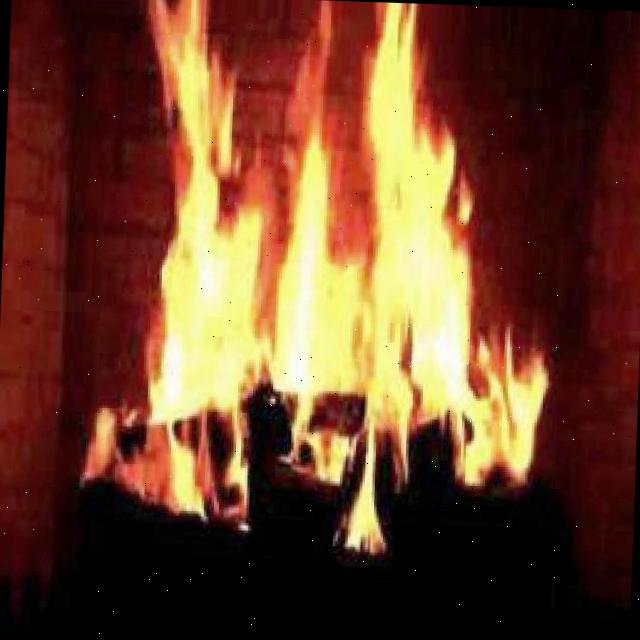fire: (148, 35, 506, 495)
